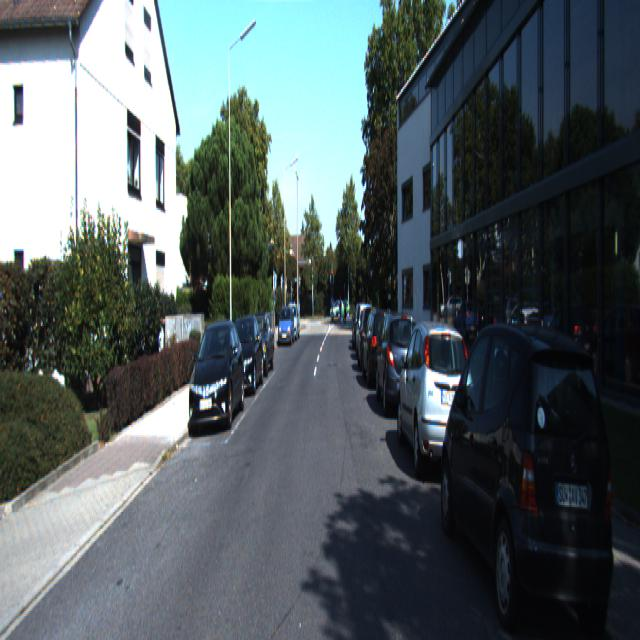Car: (439, 309, 622, 638), (397, 313, 478, 486), (188, 319, 245, 439), (375, 306, 424, 421), (223, 314, 264, 399), (362, 304, 399, 392), (628, 408, 640, 638), (242, 312, 276, 379), (278, 305, 295, 347)
